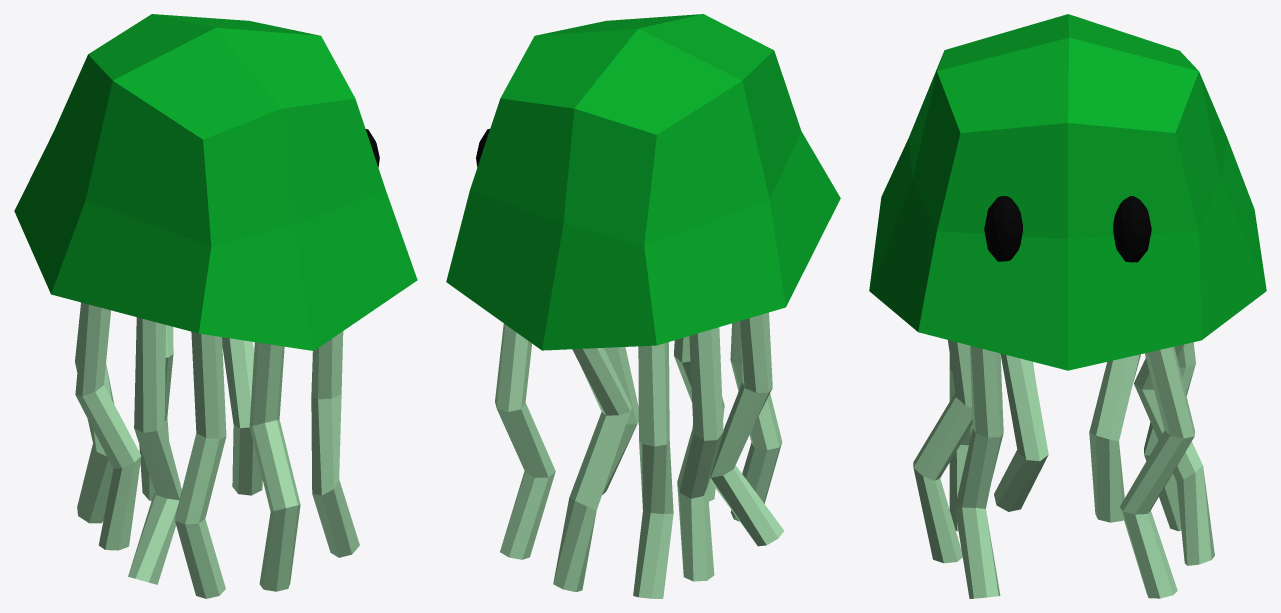
Rendered from jellyfish-npc.glb.
The picture shows the model from 3 angles, left to right: view 1: azimuth 30°, elevation 25°; view 2: azimuth 150°, elevation 25°; view 3: azimuth 270°, elevation 25°; orthographic projection.
Parts seen in each view (by area): view 1: body, arms; view 2: body, arms; view 3: body, arms, eyes.
Part boxes in pixels (x1,y1,x2,y2): body: [14, 14, 417, 350]; arms: [75, 302, 359, 598]; body: [446, 14, 840, 350]; arms: [495, 312, 784, 598]; body: [869, 14, 1266, 370]; arms: [913, 340, 1214, 598]; eyes: [984, 196, 1151, 262].
Size of the model in its own units: 1.36 by 2.16 by 1.49.
